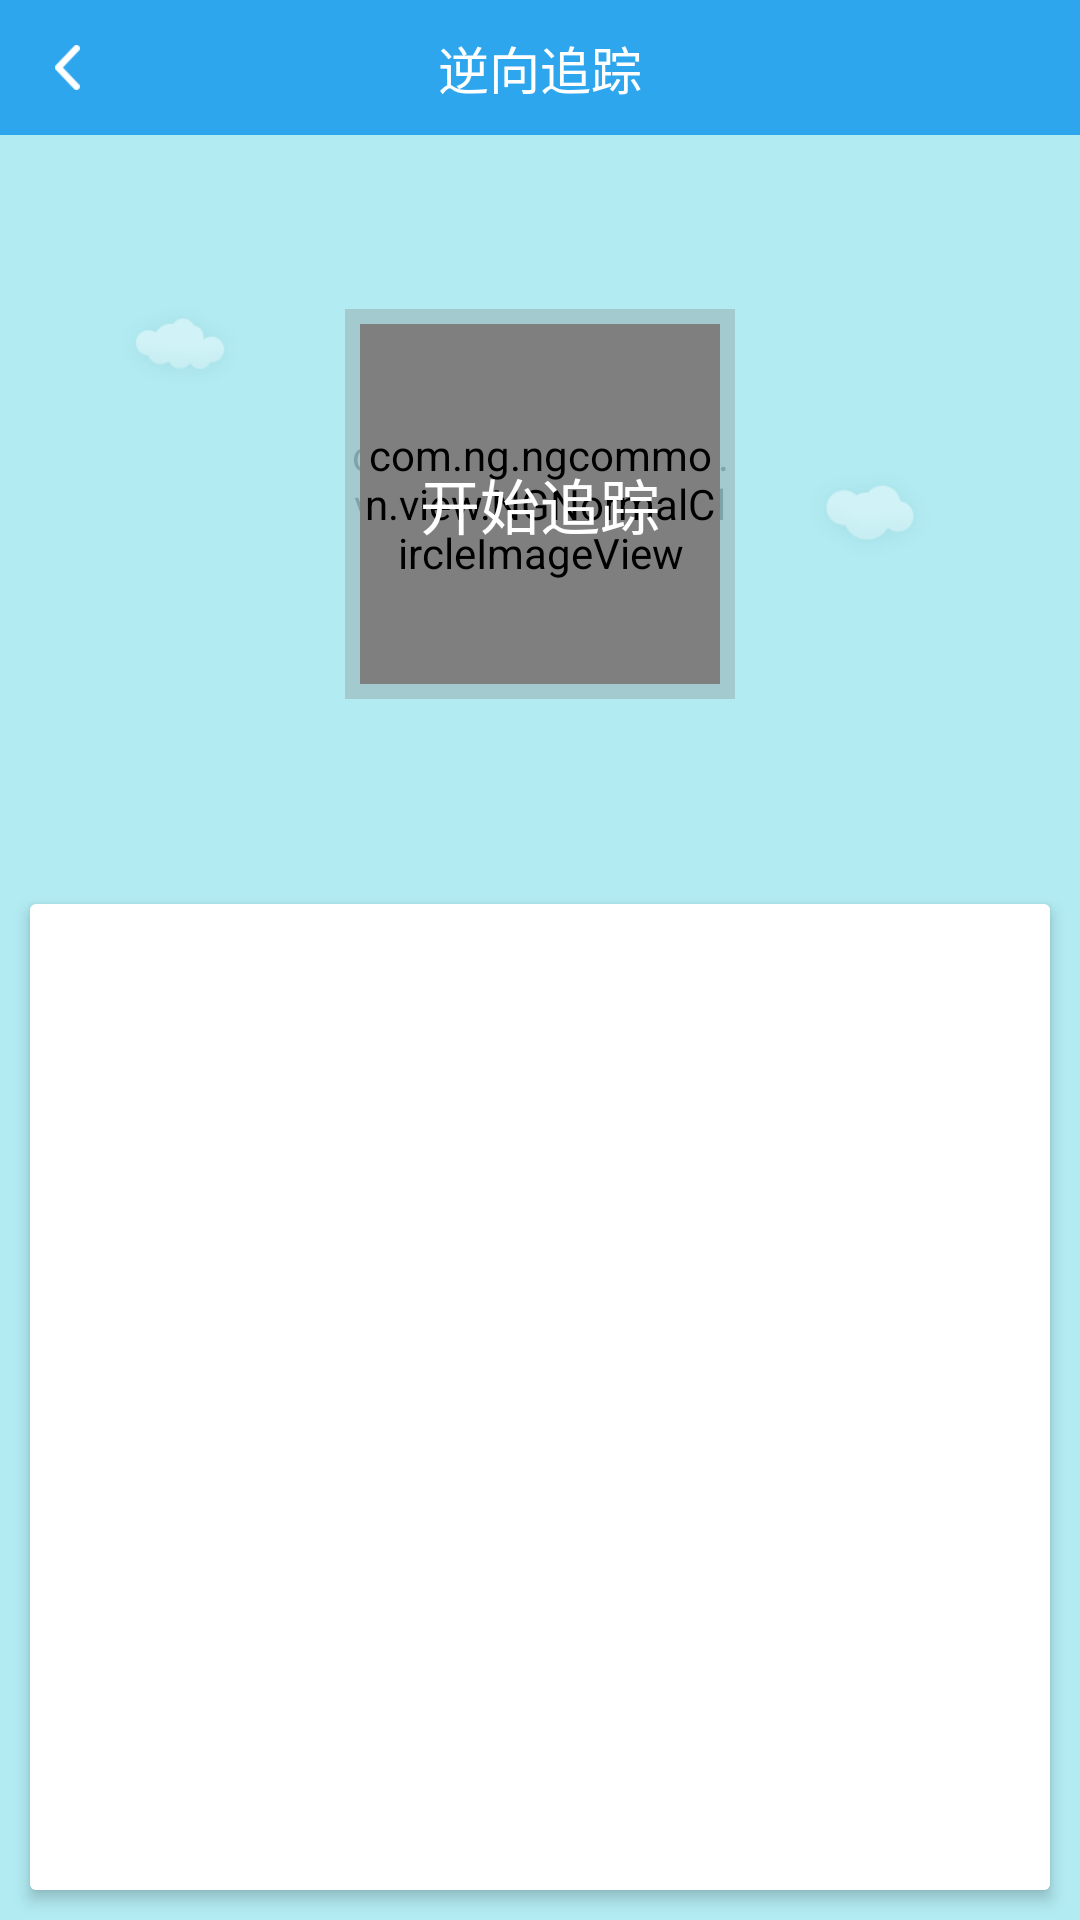

Icon bounding boxes for this 1080 x 1920 phone screenshot, format (x1, y1, x2, y2):
back: (55, 45, 80, 90)
cloud: (136, 319, 224, 361), (827, 486, 913, 530)
